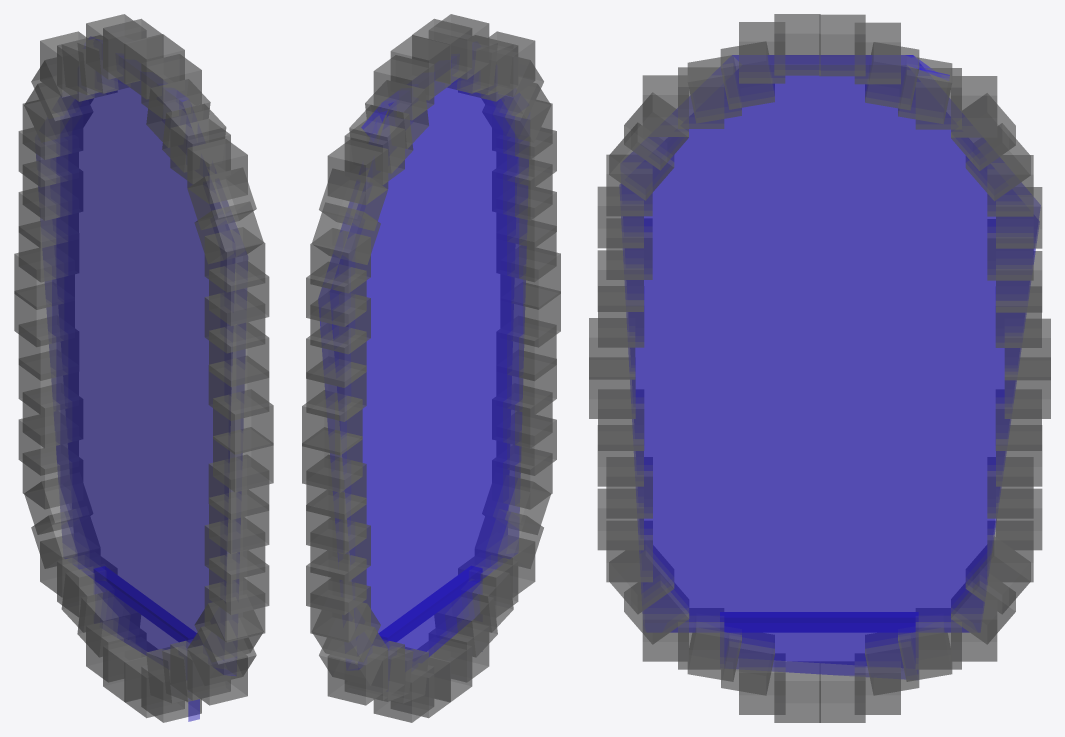
The model's file is Portal B.fbx.
3 views of the same model, side by side, from view 1: azimuth 30°, elevation 25°; view 2: azimuth 150°, elevation 25°; view 3: azimuth 270°, elevation 25° (orthographic). The views are drawn at different scales.
Parts seen in each view (by area): view 1: Cube.002, Cube; view 2: Cube.002, Cube; view 3: Cube, Cube.002.
Boxes of the visible parts, box(x1,y1,x2,y2) form: Cube.002: box(14, 14, 273, 722); Cube: box(36, 39, 247, 721); Cube.002: box(302, 14, 560, 722); Cube: box(318, 60, 528, 669); Cube: box(619, 55, 1040, 679); Cube.002: box(589, 14, 1050, 722).
Bounding box in the file's own units: 200 × 3278 × 1990.
